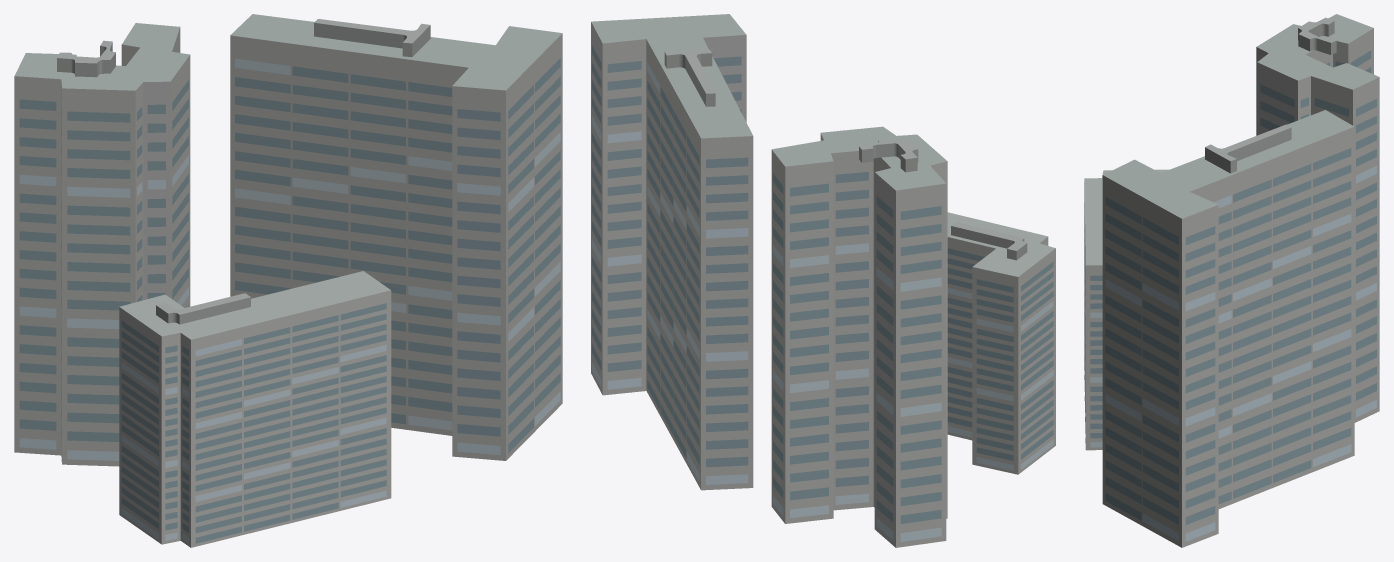
The model's file is apt-a41279921.glb.
3 views of the same model, side by side, from view 1: azimuth 30°, elevation 25°; view 2: azimuth 150°, elevation 25°; view 3: azimuth 270°, elevation 25° (orthographic). The views are drawn at different scales.
Visible parts, largest first — view 1: apt-a41279921; view 2: apt-a41279921; view 3: apt-a41279921.
Boxes of the visible parts, x1=… form: apt-a41279921: x1=14, y1=14, x2=562, y2=547; apt-a41279921: x1=591, y1=14, x2=1055, y2=547; apt-a41279921: x1=1084, y1=14, x2=1379, y2=547.
Size of the model in its own units: 84.12 by 68 by 52.58.
